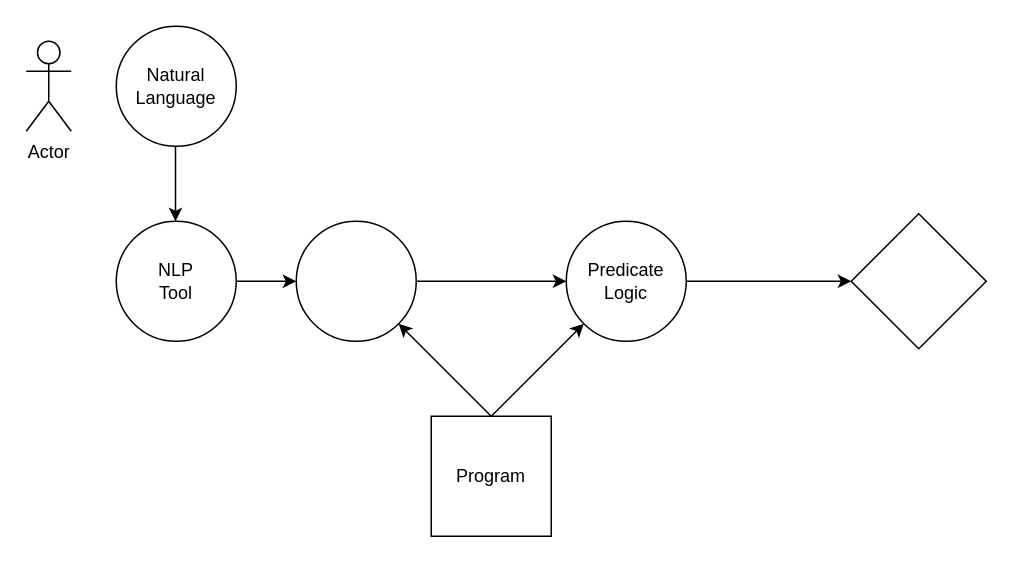
This 1013x563 diagram has some shape labels left out. The shapes that lost their labels are listed below. From the top down, each one's centre as x and y in pixels, then its label:
the point at 355,280: Parser
the point at 918,280: Formal Specfications
